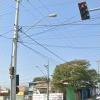traffic lights: (78, 2, 90, 22)
